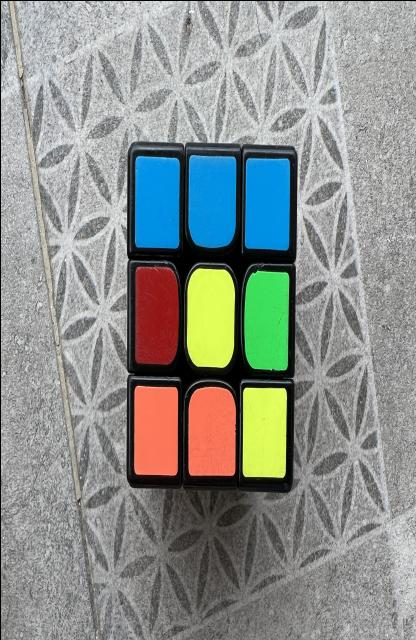Blue: (188, 153, 236, 247), (244, 157, 289, 250), (134, 155, 179, 248)
Green: (243, 270, 288, 370)
Orange: (188, 385, 235, 475), (133, 385, 177, 475)
Red: (134, 265, 178, 363)
Yellow: (186, 267, 234, 367), (241, 387, 286, 477)
